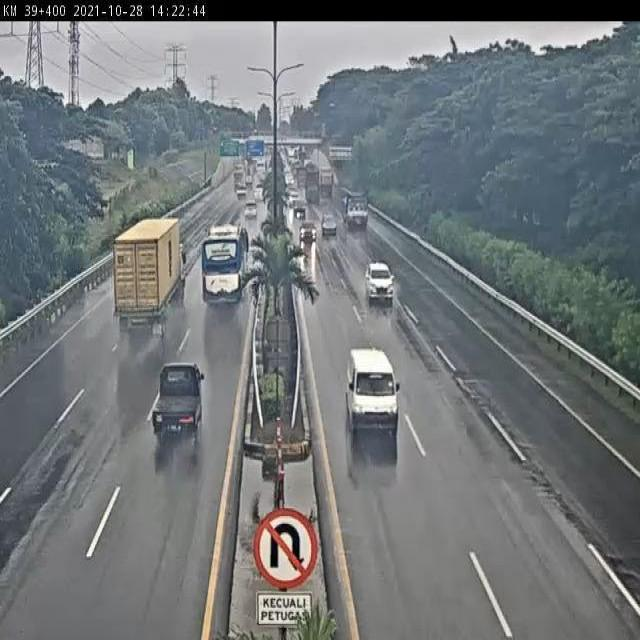bus-l-: (199, 224, 251, 311)
truck-xl-: (112, 217, 187, 336)
